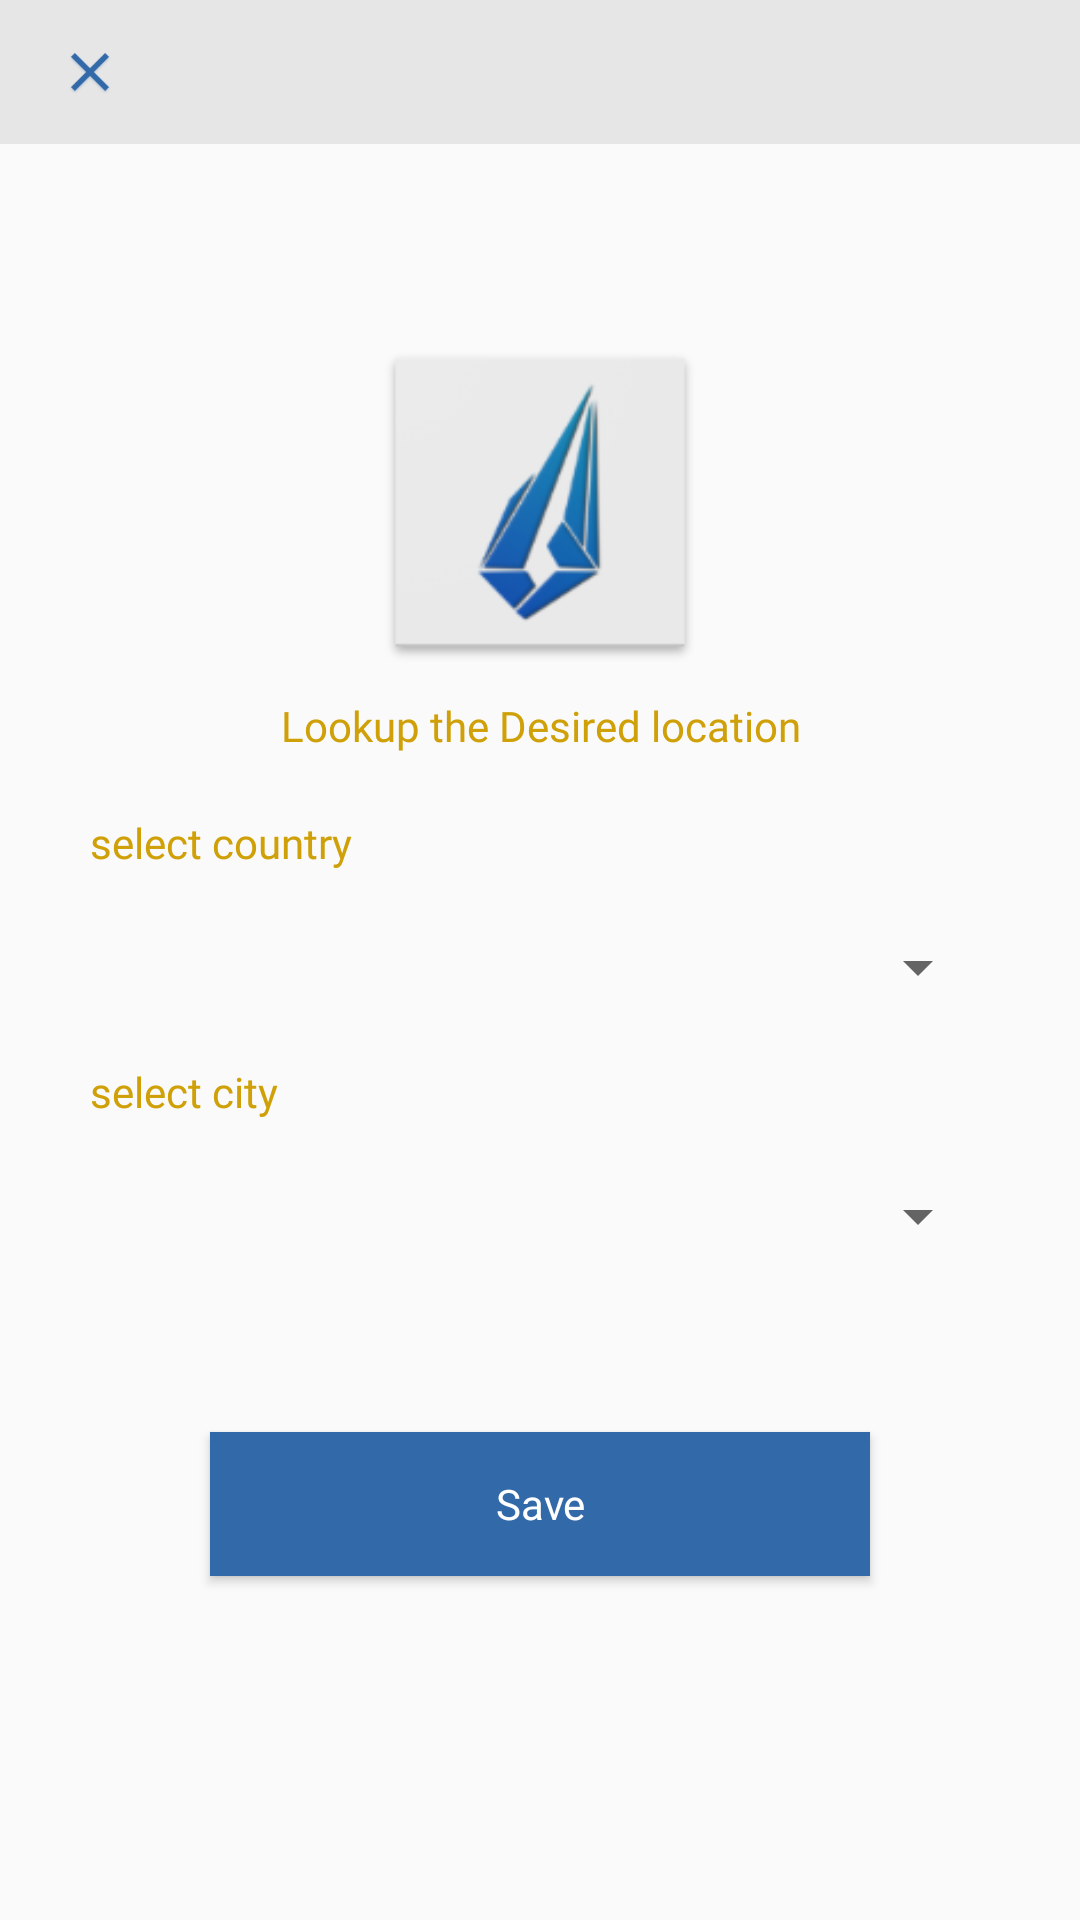

Screen size 1080x1920. Icon name, then its center in pixels as point (x, y):
close: point (90, 72)
